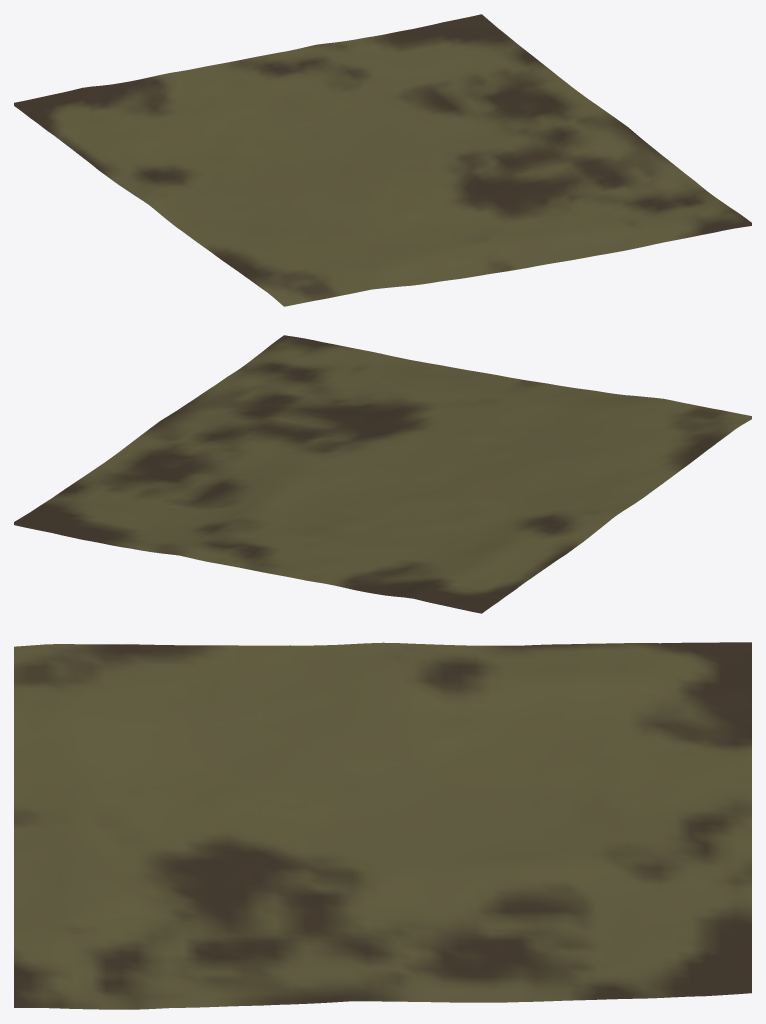
File: land_m_00_00.glb
3 views of the same model, one above another, from view 1: azimuth 30°, elevation 25°; view 2: azimuth 150°, elevation 25°; view 3: azimuth 270°, elevation 25° (orthographic). The views are drawn at different scales.
Visible parts, largest first — view 1: land_m_00_00; view 2: land_m_00_00; view 3: land_m_00_00.
Part boxes in pixels (x1=…): land_m_00_00: x1=14, y1=14, x2=751, y2=306; land_m_00_00: x1=14, y1=335, x2=751, y2=613; land_m_00_00: x1=14, y1=642, x2=751, y2=1009.
Bounding box in the file's own units: 960 × 79.9 × 960.
